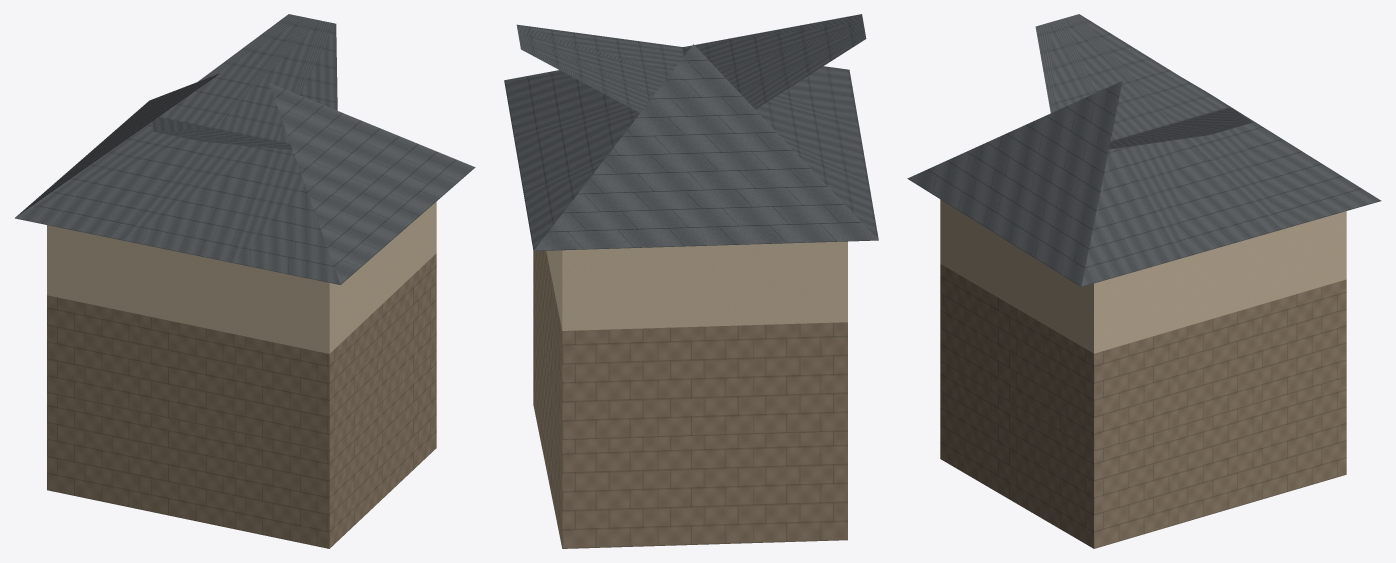
Rendered from bld_c28_32_386.gltf.
The picture shows the model from 3 angles, left to right: view 1: azimuth 30°, elevation 25°; view 2: azimuth 150°, elevation 25°; view 3: azimuth 270°, elevation 25°; orthographic projection. The views are drawn at different scales.
Parts seen in each view (by area): view 1: bld_c28_32_386; view 2: bld_c28_32_386; view 3: bld_c28_32_386.
Boxes of the visible parts, left/top/right/bottom form: bld_c28_32_386: left=15, top=14, right=475, bottom=548; bld_c28_32_386: left=504, top=14, right=878, bottom=548; bld_c28_32_386: left=907, top=14, right=1381, bottom=548.
Bounding box in the file's own units: 9.62 × 9.06 × 9.91.
3 materials, 3 textured.
